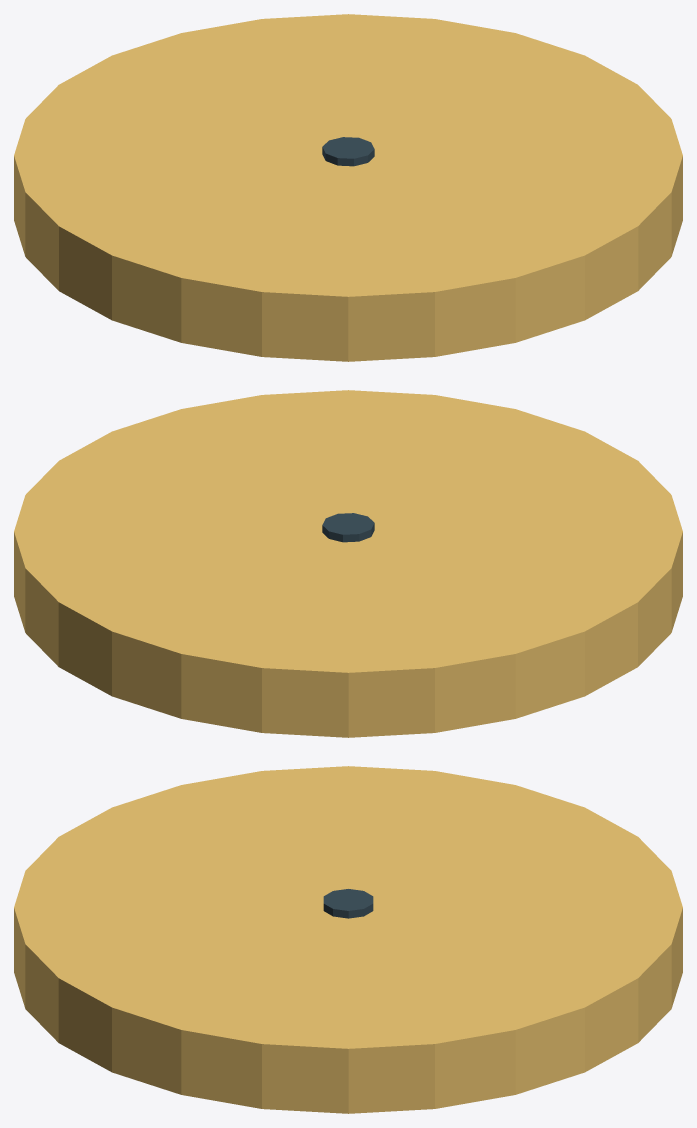
Rendered from tabletop-game-components-d2-coin-684a1682__20841.glb.
3 renders of one model, top to bottom at view 1: azimuth 30°, elevation 25°; view 2: azimuth 150°, elevation 25°; view 3: azimuth 270°, elevation 25°, orthographic.
Parts seen in each view (by area): view 1: d2-coin; view 2: d2-coin; view 3: d2-coin.
Part boxes in pixels (x1=…): d2-coin: x1=14, y1=14, x2=682, y2=361; d2-coin: x1=14, y1=390, x2=682, y2=737; d2-coin: x1=14, y1=766, x2=682, y2=1113.
Bounding box in the file's own units: 0.028 × 0.0037 × 0.028.
